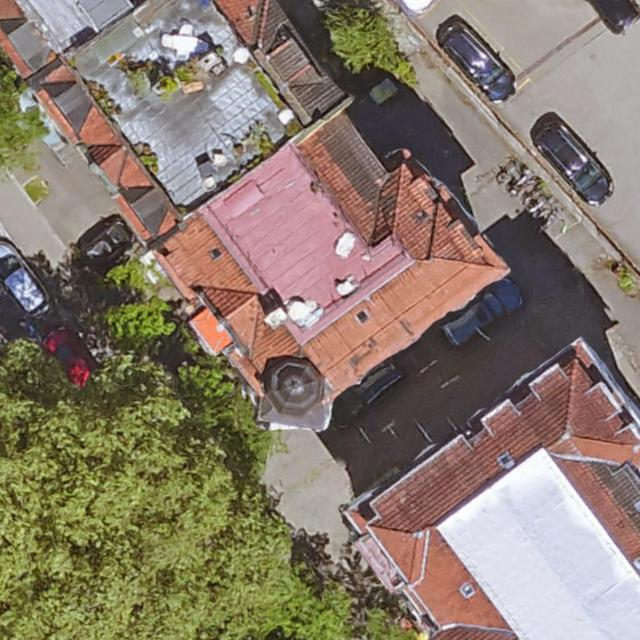tree: (0, 344, 363, 640), (87, 264, 167, 349), (327, 0, 402, 63)
